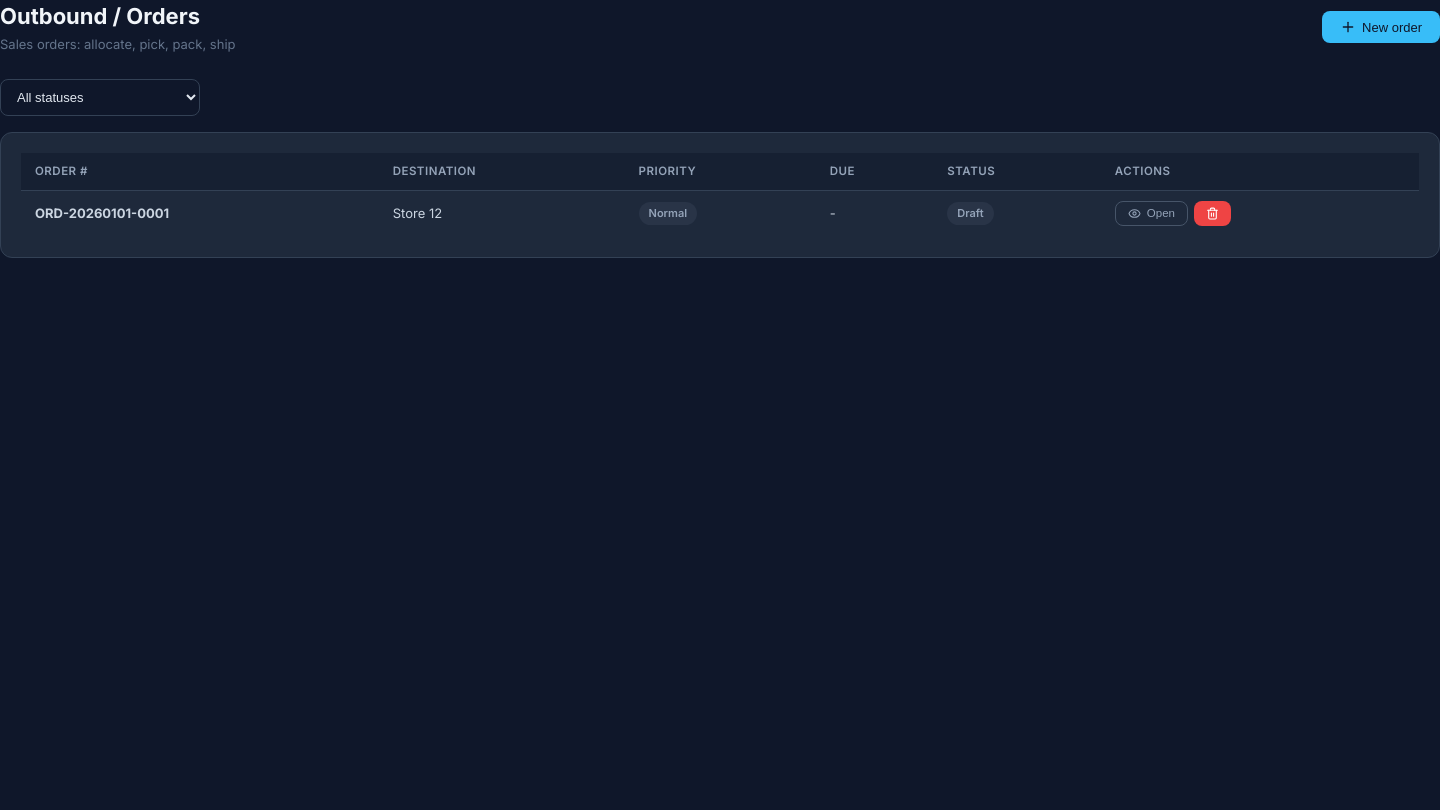
Test: Outbound page › surfaces an insufficient-stock rejection from the API
Click the button "Open".
click(1151, 213)  # box x1=1115 y1=201 x2=1188 y2=226
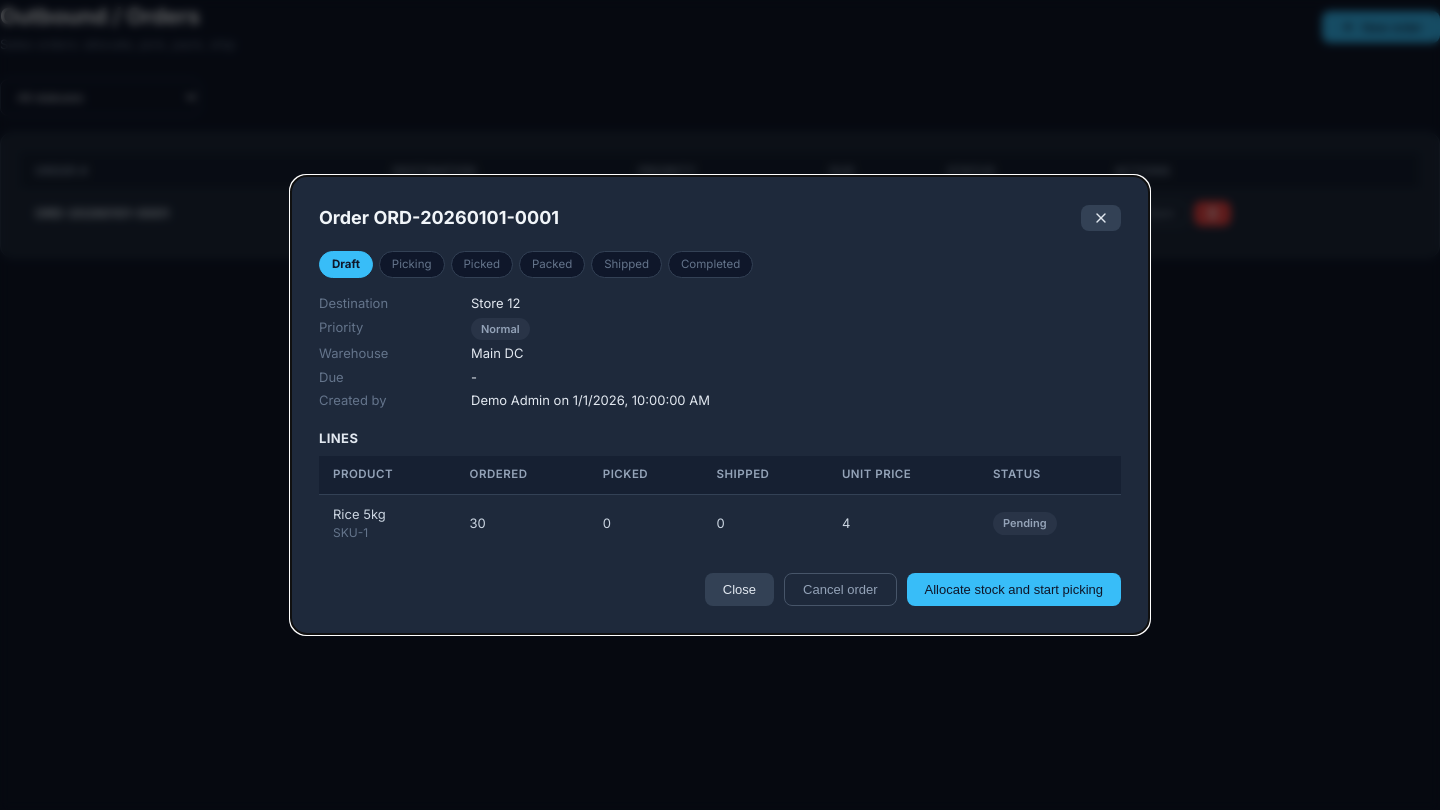
Click the button "Allocate stock and start picking".
click(1014, 590)  # box x1=906 y1=573 x2=1121 y2=606
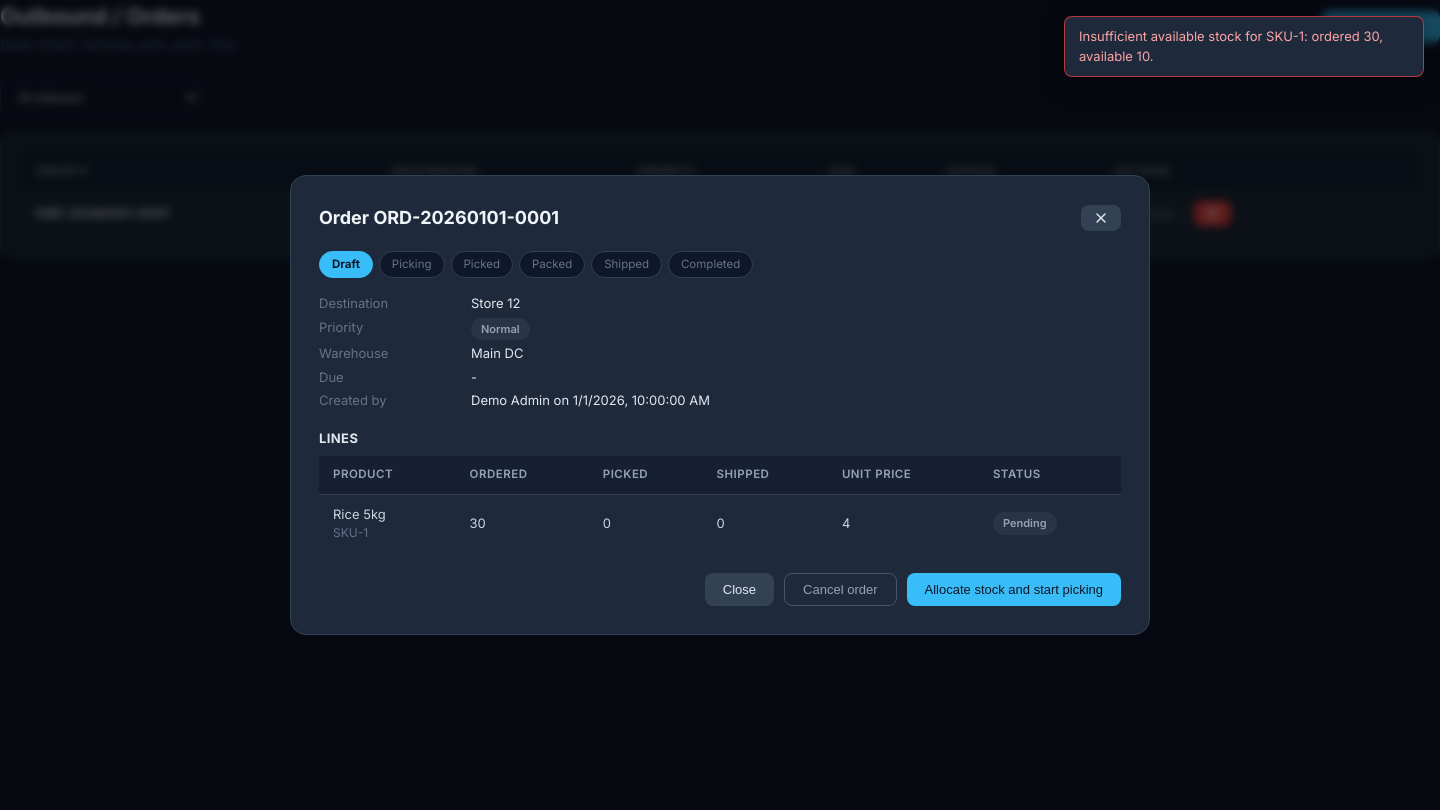
Expected: the text "Insufficient available stock" is shown, x1=1079 y1=28 x2=1383 y2=64
